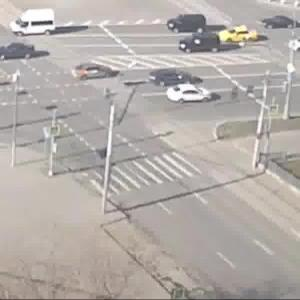car: (70, 58, 121, 83), (11, 9, 55, 34), (180, 33, 220, 56), (150, 66, 198, 85), (219, 23, 260, 45), (171, 87, 213, 105), (261, 13, 300, 32), (4, 42, 40, 62), (165, 15, 205, 33)
